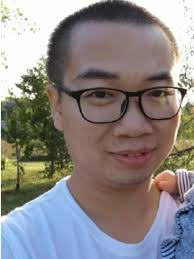asian_male: (38, 1, 181, 214)
